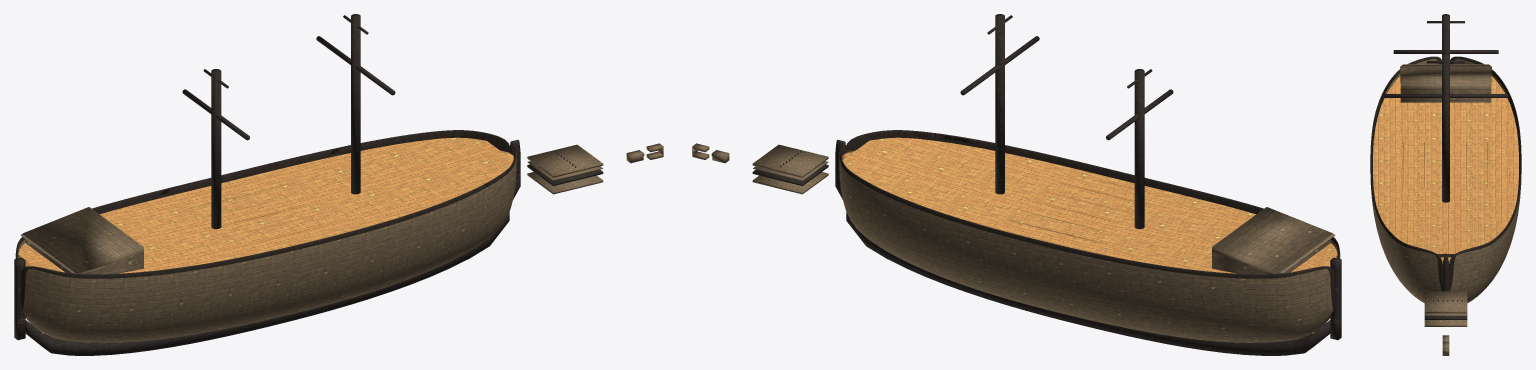
The model's file is ship.glb.
3 renders of one model, left to right at view 1: azimuth 30°, elevation 25°; view 2: azimuth 150°, elevation 25°; view 3: azimuth 270°, elevation 25°, orthographic. The views are drawn at different scales.
Visible parts, largest first — view 1: ship_deck, hull_shell, keel, plank_seam, sternpost; view 2: ship_deck, hull_shell, keel, plank_seam, sternpost; view 3: ship_deck, hull_shell, plank_seam, stem.
Boxes of the visible parts, x1,y1,x2,y2 form: ship_deck: [18, 14, 513, 274]; hull_shell: [15, 130, 516, 342]; keel: [25, 212, 509, 355]; plank_seam: [527, 144, 603, 194]; sternpost: [14, 257, 25, 340]; ship_deck: [842, 14, 1337, 274]; hull_shell: [839, 130, 1340, 342]; keel: [846, 212, 1330, 355]; plank_seam: [752, 144, 828, 194]; sternpost: [1330, 257, 1341, 340]; ship_deck: [1373, 14, 1518, 263]; hull_shell: [1370, 56, 1521, 302]; plank_seam: [1424, 291, 1467, 326]; stem: [1442, 253, 1449, 291].
Bounding box in the file's own units: 129 × 54.65 × 31.68.
4 materials, 4 textured.
